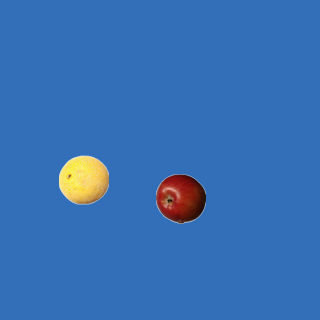Apple Braeburn: (155, 173, 205, 223)
Cantaloupe 1: (58, 154, 108, 204)
